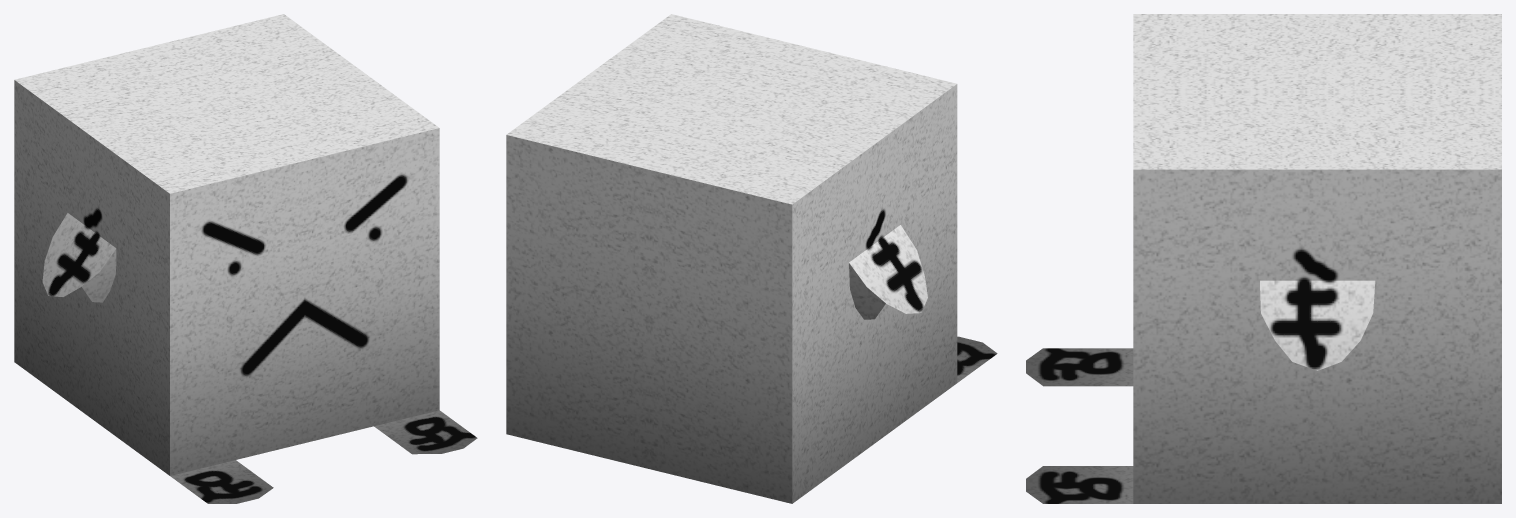
File: katatiC.FBX
The picture shows the model from 3 angles, left to right: view 1: azimuth 30°, elevation 25°; view 2: azimuth 150°, elevation 25°; view 3: azimuth 270°, elevation 25°; orthographic projection. The views are drawn at different scales.
Visible parts, largest first — view 1: オブジェクト001; view 2: オブジェクト001; view 3: オブジェクト001.
Boxes of the visible parts, box(x1,y1,x2,y2) form: オブジェクト001: box(14, 14, 477, 503); オブジェクト001: box(506, 14, 997, 503); オブジェクト001: box(1026, 14, 1501, 503).
Size of the model in its own units: 66.27 by 50 by 64.52.
Materials: 1 (1 with a texture image).
